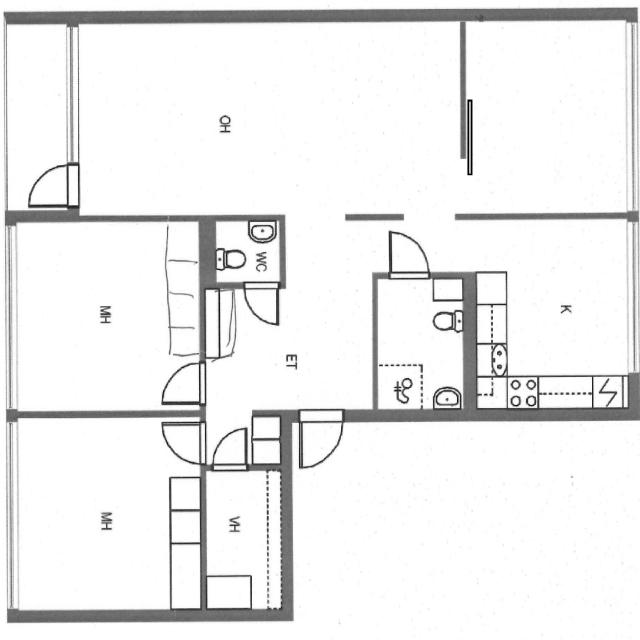door: (157, 359, 206, 468), (296, 408, 345, 472), (24, 160, 82, 208), (155, 359, 208, 408), (157, 419, 206, 467), (207, 423, 252, 474), (388, 230, 432, 280), (240, 280, 282, 328)
window: (1, 219, 25, 414), (1, 414, 24, 616), (59, 21, 87, 170), (626, 222, 640, 388), (456, 96, 478, 172)
zone: (74, 16, 465, 216), (12, 412, 206, 618), (6, 216, 205, 414), (465, 16, 634, 214), (471, 218, 632, 416), (192, 282, 374, 422), (203, 465, 289, 616), (376, 272, 468, 413), (212, 217, 280, 286)
